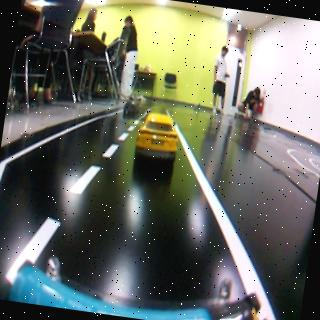car: (130, 108, 184, 172), (118, 94, 141, 120)
